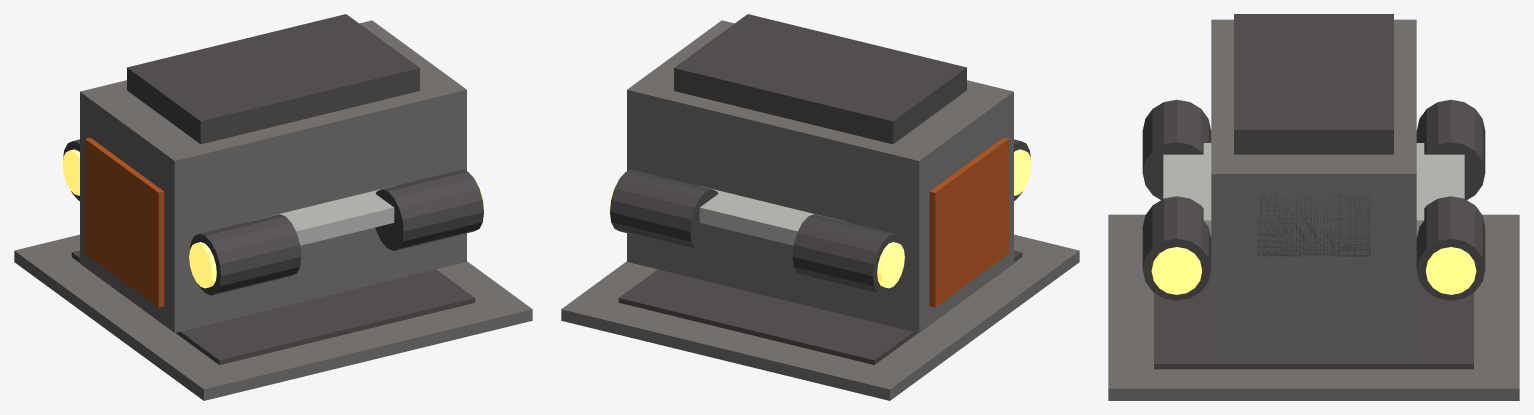
Rendered from cargo_dropship_script.glb.
The picture shows the model from 3 angles, left to right: view 1: azimuth 30°, elevation 25°; view 2: azimuth 150°, elevation 25°; view 3: azimuth 270°, elevation 25°; orthographic projection. The views are drawn at different scales.
Parts seen in each view (by area): view 1: Cube.002, Cube.003, Cube, Cube.001, Cube.004, Cylinder.004, Cylinder, Cube.005, Cylinder.001, Cylinder.003; view 2: Cube.002, Cube.003, Cube, Cube.001, Cube.004, Cylinder.006, Cylinder.002, Cube.006, Cylinder.003, Cylinder.001; view 3: Cube.002, Cube, Cube.003, Cube.001, Cylinder.004, Cylinder.006, Cylinder, Cylinder.002, Cube.007, Cube.005, Cube.006, Cylinder.005 (+1 smaller).
Part boxes in pixels (box(x1,y1,x2,y2)): Cube.002: box(80, 20, 466, 332); Cube.003: box(127, 14, 419, 144); Cube: box(14, 234, 532, 400); Cube.001: box(71, 250, 475, 364); Cube.004: box(85, 137, 164, 307); Cylinder.004: box(375, 169, 483, 250); Cylinder: box(189, 214, 301, 295); Cube.005: box(248, 186, 394, 245); Cylinder.001: box(189, 242, 216, 288); Cylinder.003: box(62, 149, 79, 195); Cube.002: box(627, 20, 1013, 332); Cube.003: box(674, 14, 966, 144); Cube: box(561, 234, 1079, 400); Cube.001: box(618, 250, 1022, 364); Cube.004: box(929, 137, 1008, 307); Cylinder.006: box(610, 169, 718, 250); Cylinder.002: box(792, 214, 904, 295); Cube.006: box(699, 186, 845, 245); Cylinder.003: box(877, 242, 904, 288); Cylinder.001: box(1014, 149, 1031, 195); Cube.002: box(1211, 19, 1416, 360); Cube: box(1108, 214, 1519, 400); Cube.003: box(1234, 14, 1393, 154); Cube.001: box(1154, 270, 1473, 369); Cylinder.004: box(1142, 196, 1211, 300); Cylinder.006: box(1416, 196, 1485, 300); Cylinder: box(1142, 99, 1211, 199); Cylinder.002: box(1416, 99, 1485, 199); Cube.007: box(1257, 194, 1370, 256); Cube.005: box(1163, 143, 1211, 236); Cube.006: box(1416, 143, 1464, 236); Cylinder.005: box(1151, 247, 1201, 294).
Bounding box in the file's own units: 18 × 11.7 × 18.
